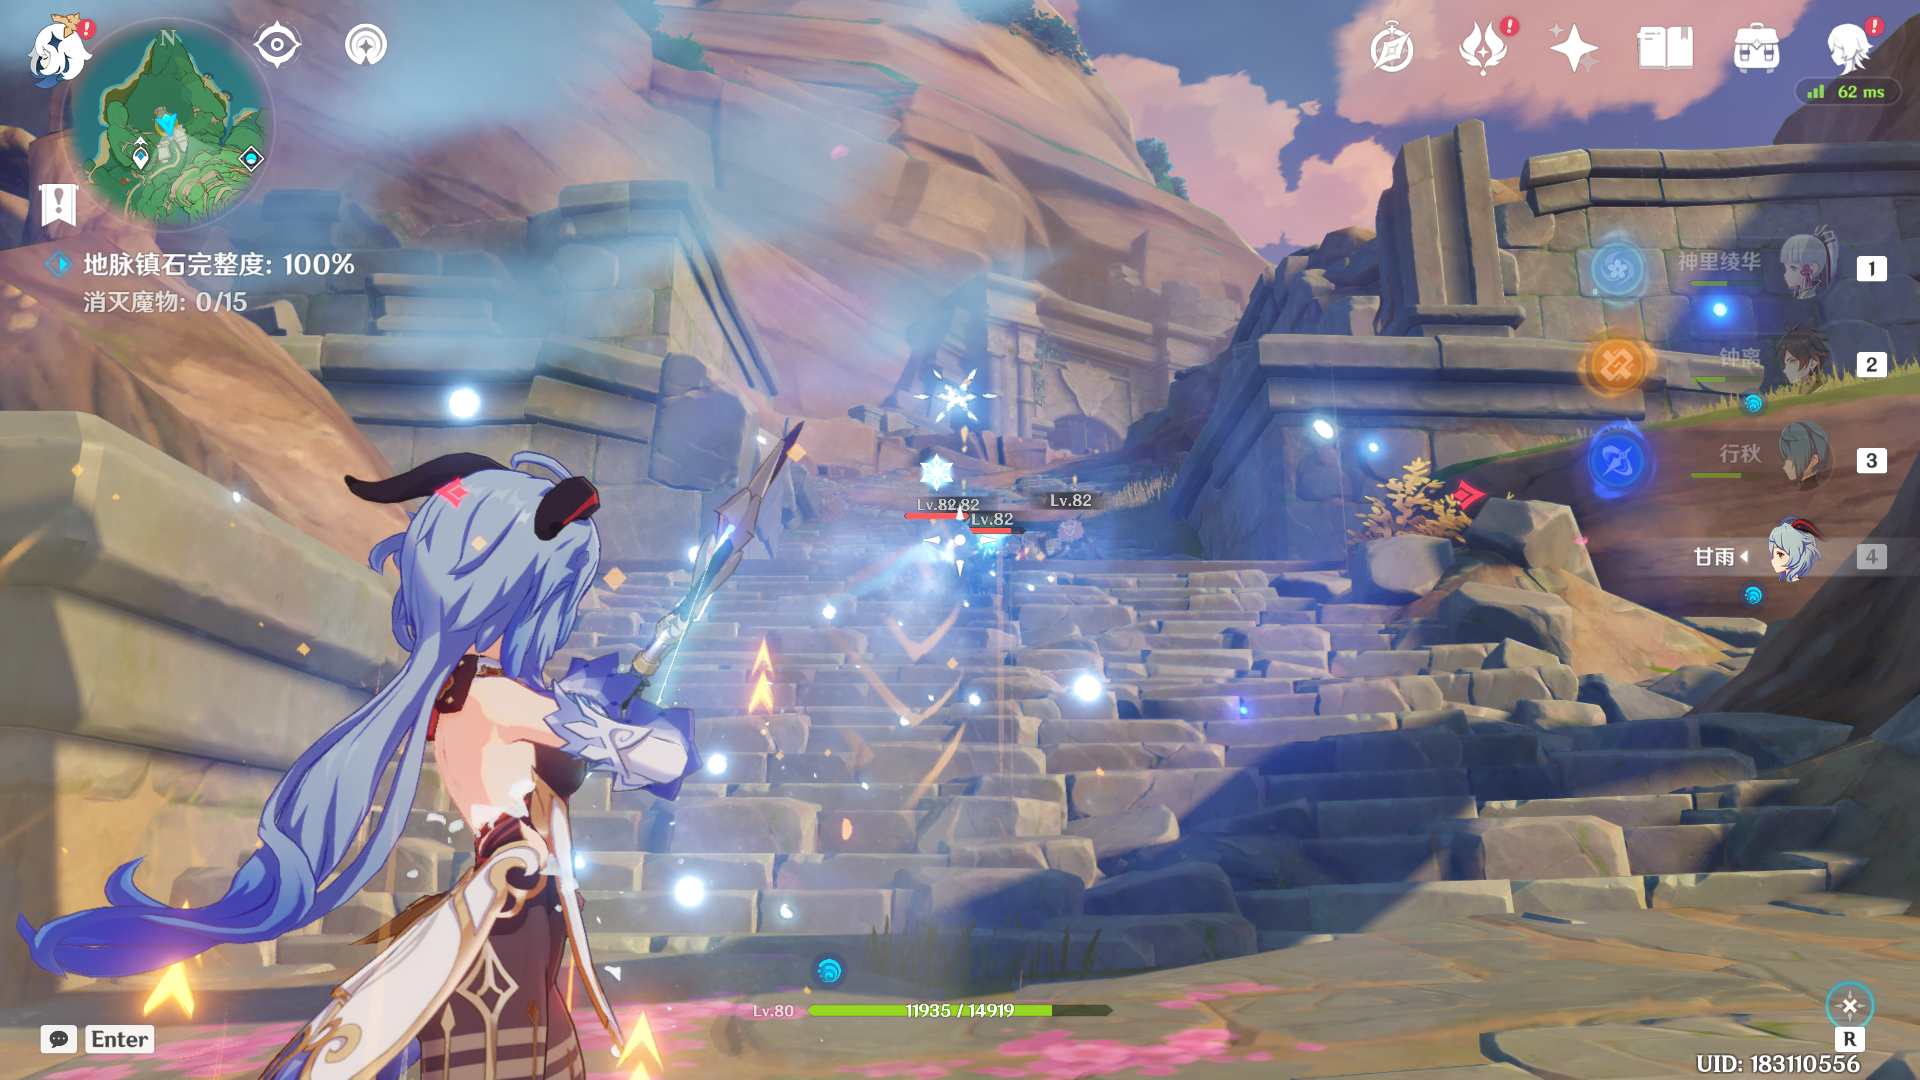character: (32, 398, 746, 1080)
hili: (1043, 506, 1104, 578)
